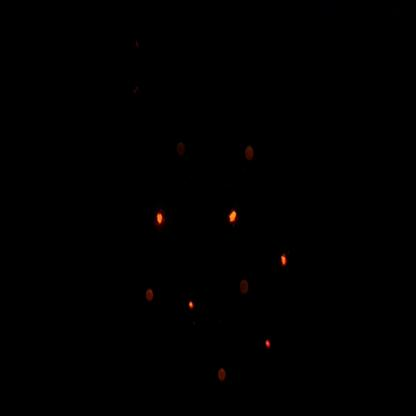PS: (209, 350, 235, 400), (233, 267, 258, 312), (171, 125, 194, 172), (139, 276, 162, 319), (242, 132, 260, 180)
PVC: (259, 319, 279, 365), (183, 288, 206, 324), (151, 201, 173, 238), (225, 201, 243, 241), (279, 243, 295, 282)
